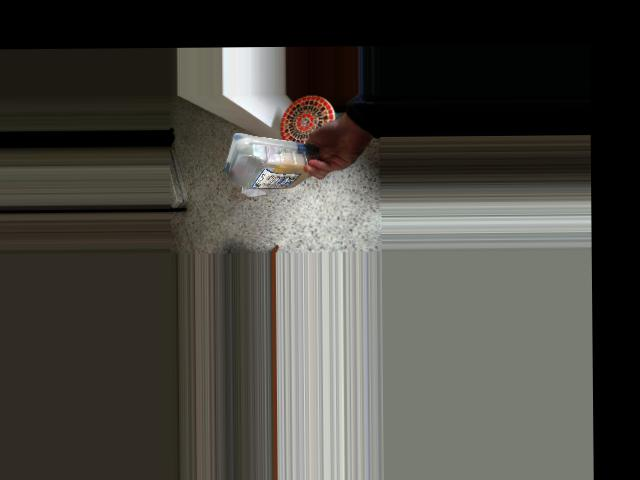cheese: (222, 136, 316, 189)
